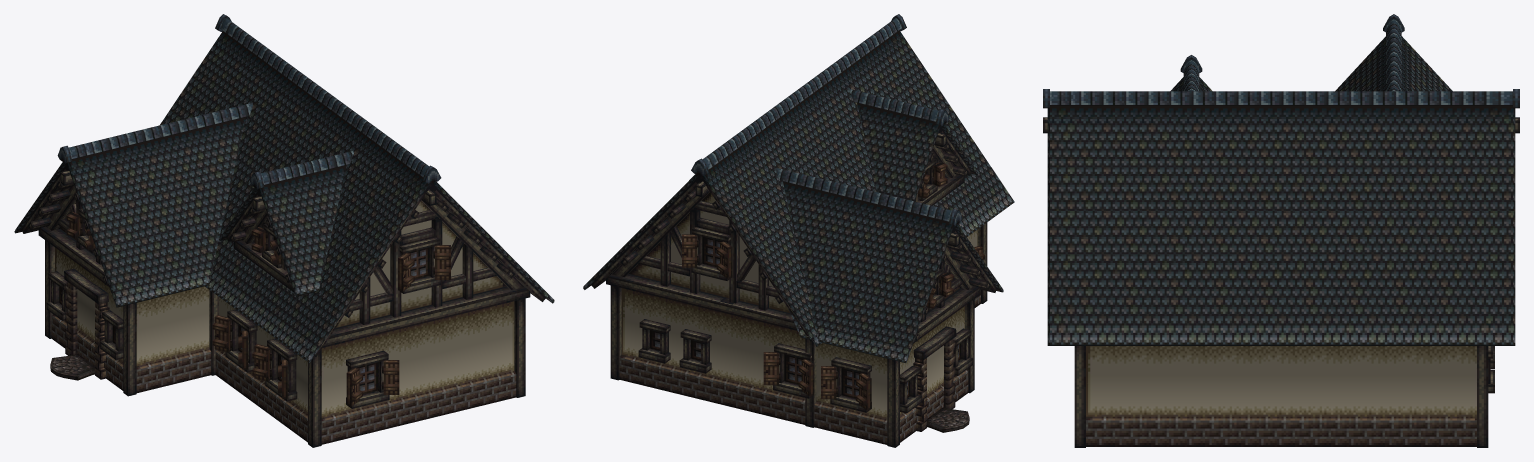
Rendered from EnvBdgMD_Mount_A_Outdoor_Library.FBX.
3 renders of one model, left to right at view 1: azimuth 30°, elevation 25°; view 2: azimuth 150°, elevation 25°; view 3: azimuth 270°, elevation 25°, orthographic. The views are drawn at different scales.
Visible parts, largest first — view 1: EnvBdgMD_Mount_A_Outdoor_Library; view 2: EnvBdgMD_Mount_A_Outdoor_Library; view 3: EnvBdgMD_Mount_A_Outdoor_Library.
Boxes of the visible parts, <box> form: EnvBdgMD_Mount_A_Outdoor_Library: <box>14,14,554,447</box>; EnvBdgMD_Mount_A_Outdoor_Library: <box>583,14,1014,447</box>; EnvBdgMD_Mount_A_Outdoor_Library: <box>1043,14,1519,447</box>.
Size of the model in its own units: 1017 by 736 by 1060.
Materials: 1 (1 with a texture image).
